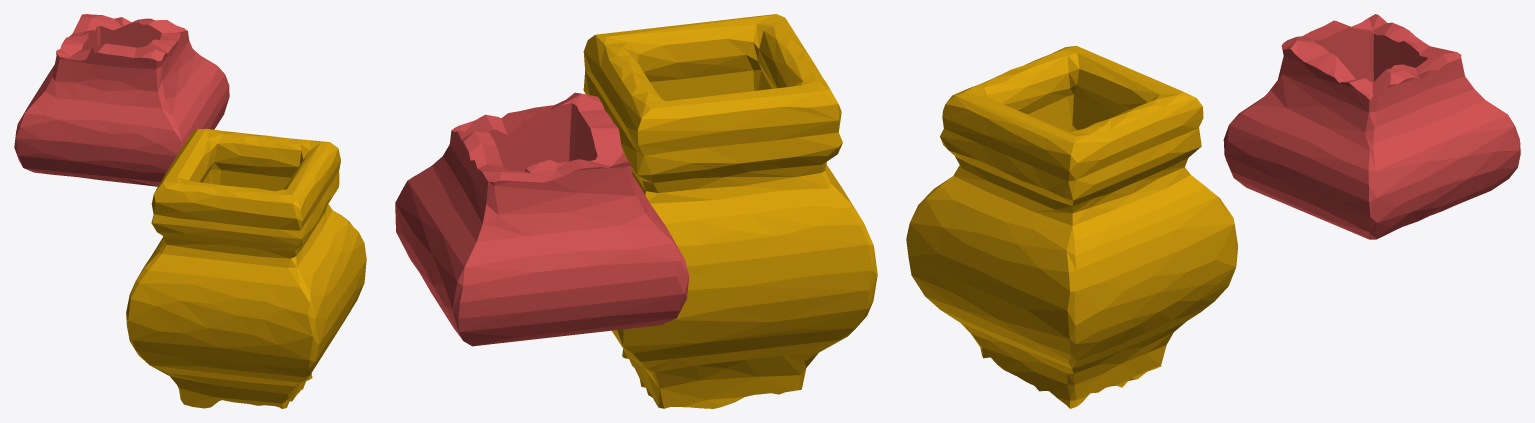
File: mode_1_2pcs_transformed.glb
3 views of the same model, side by side, from view 1: azimuth 30°, elevation 25°; view 2: azimuth 150°, elevation 25°; view 3: azimuth 270°, elevation 25° (orthographic). The views are drawn at different scales.
Parts seen in each view (by area): view 1: piece_0.obj, piece_1.obj; view 2: piece_0.obj, piece_1.obj; view 3: piece_0.obj, piece_1.obj.
Boxes of the visible parts, x1,y1,x2,y2 form: piece_0.obj: (126,128,366,408); piece_1.obj: (14,14,229,186); piece_0.obj: (583,14,877,408); piece_1.obj: (395,92,689,346); piece_0.obj: (906,46,1237,408); piece_1.obj: (1223,14,1520,239).
Size of the model in its own units: 0.7406 by 0.8181 by 1.37.
